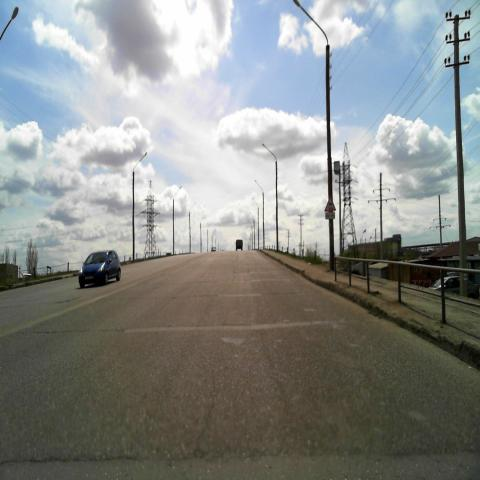1_15: (324, 196, 336, 210)
